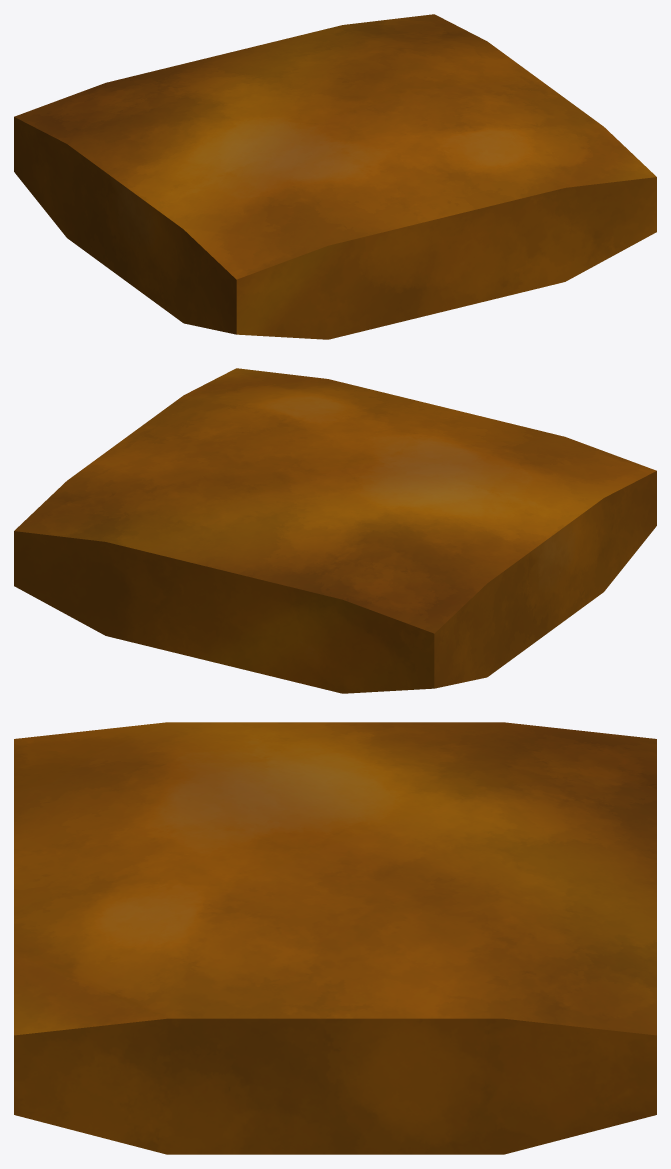
The model's file is Pillow.FBX.
3 views of the same model, one above another, from view 1: azimuth 30°, elevation 25°; view 2: azimuth 150°, elevation 25°; view 3: azimuth 270°, elevation 25° (orthographic). The views are drawn at different scales.
Visible parts, largest first — view 1: Oreiller; view 2: Oreiller; view 3: Oreiller.
Boxes of the visible parts, <box> form: Oreiller: <box>14,14,656,339</box>; Oreiller: <box>14,368,656,693</box>; Oreiller: <box>14,722,656,1154</box>.
Bounding box in the file's own units: 0.6 × 0.15 × 0.55.
